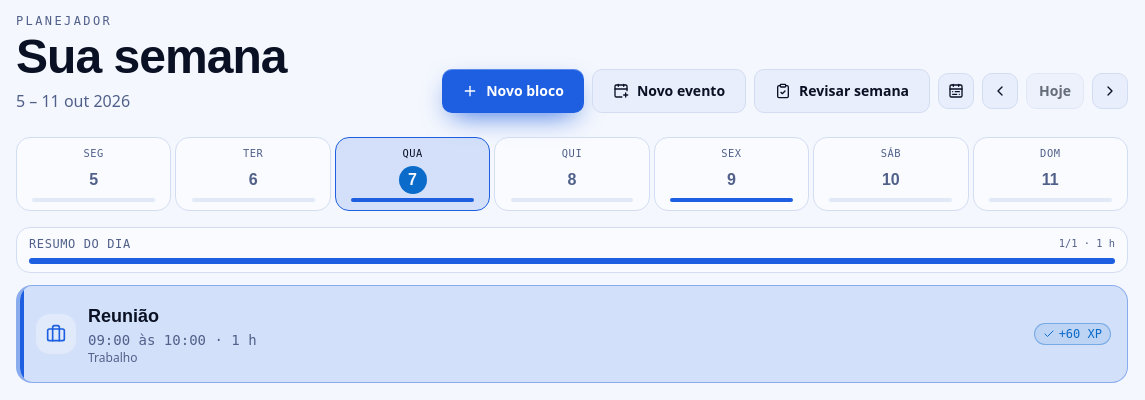
Test: WeekPage no celular (visão dia a dia) › marca como concluído, com o XP, só o bloco que foi concluído
Expected: the button "Reunião 09:00 às 10:00 · 1 h Trabalho +60 XP" is shown, top-left (16, 285), bottom-right (1128, 383)
Click the tab with aria-label "sexta-feira": [731, 174] box top-left (654, 137), bottom-right (809, 211)
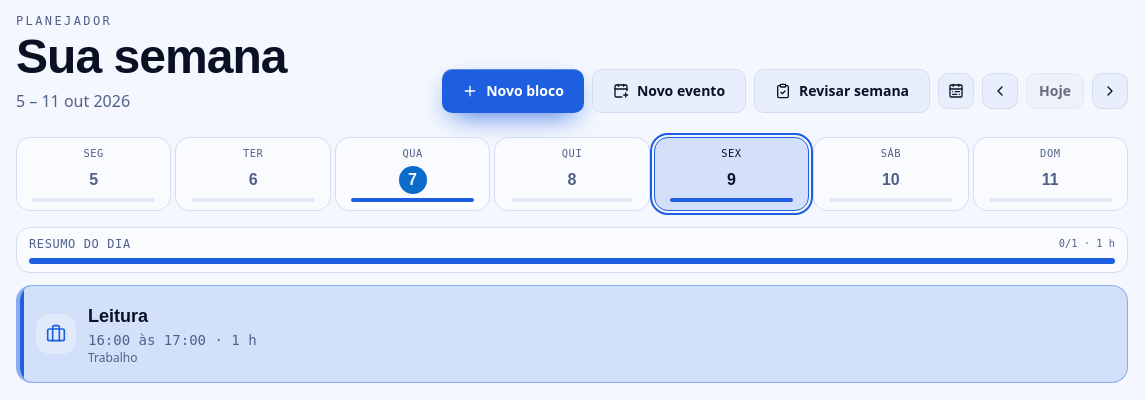
Expected: the button with aria-label "Leitura, sexta-feira" no longer shows "XP", top-left (16, 285), bottom-right (1128, 383)
